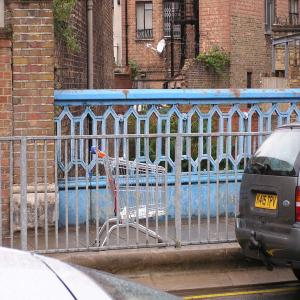Vehicle-registration-plate: (254, 193, 278, 211)
